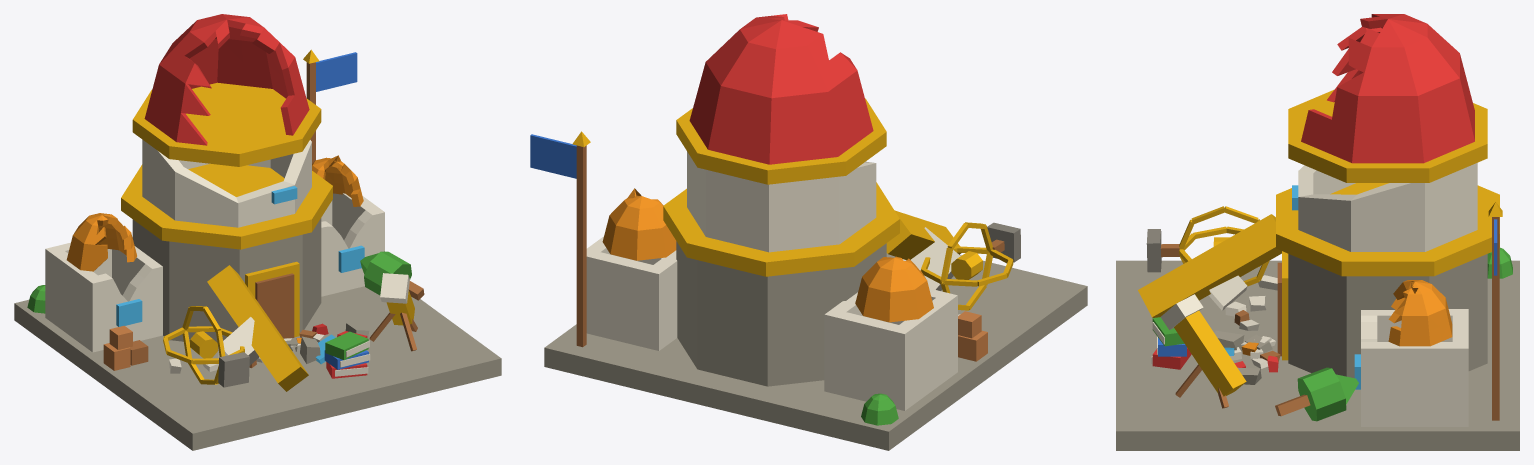
File: observatory_t3_v3_dmg1.glb
3 views of the same model, side by side, from view 1: azimuth 30°, elevation 25°; view 2: azimuth 150°, elevation 25°; view 3: azimuth 270°, elevation 25° (orthographic). The views are drawn at different scales.
Visible parts, largest first — view 1: observatory_t3_v3_dmg1; view 2: observatory_t3_v3_dmg1; view 3: observatory_t3_v3_dmg1.
Part boxes in pixels (box(x1,y1,x2,y2)): observatory_t3_v3_dmg1: box(14, 14, 501, 450); observatory_t3_v3_dmg1: box(530, 14, 1087, 450); observatory_t3_v3_dmg1: box(1116, 14, 1519, 450).
Bounding box in the file's own units: 0.805 × 0.71 × 0.75.
1 material, 1 textured.
